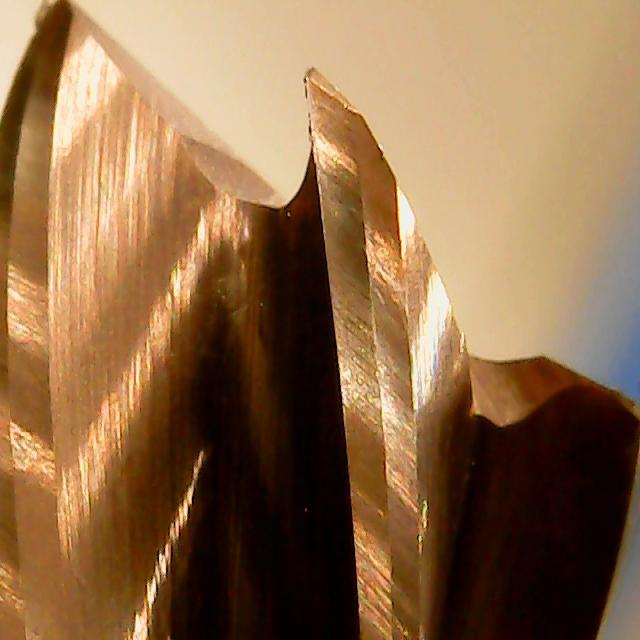Tool-wear-class-0: (289, 64, 426, 400)
